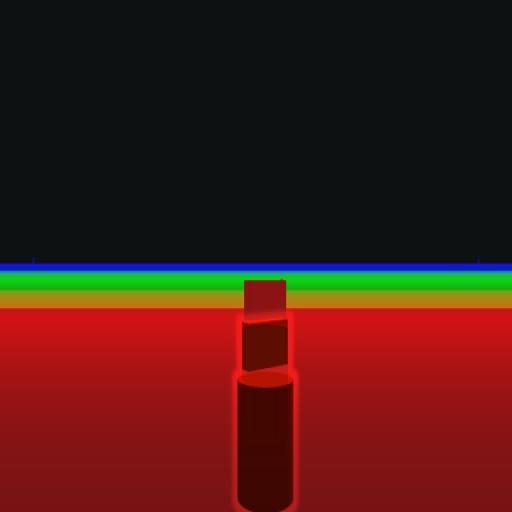buoy: (234, 306, 298, 512)
